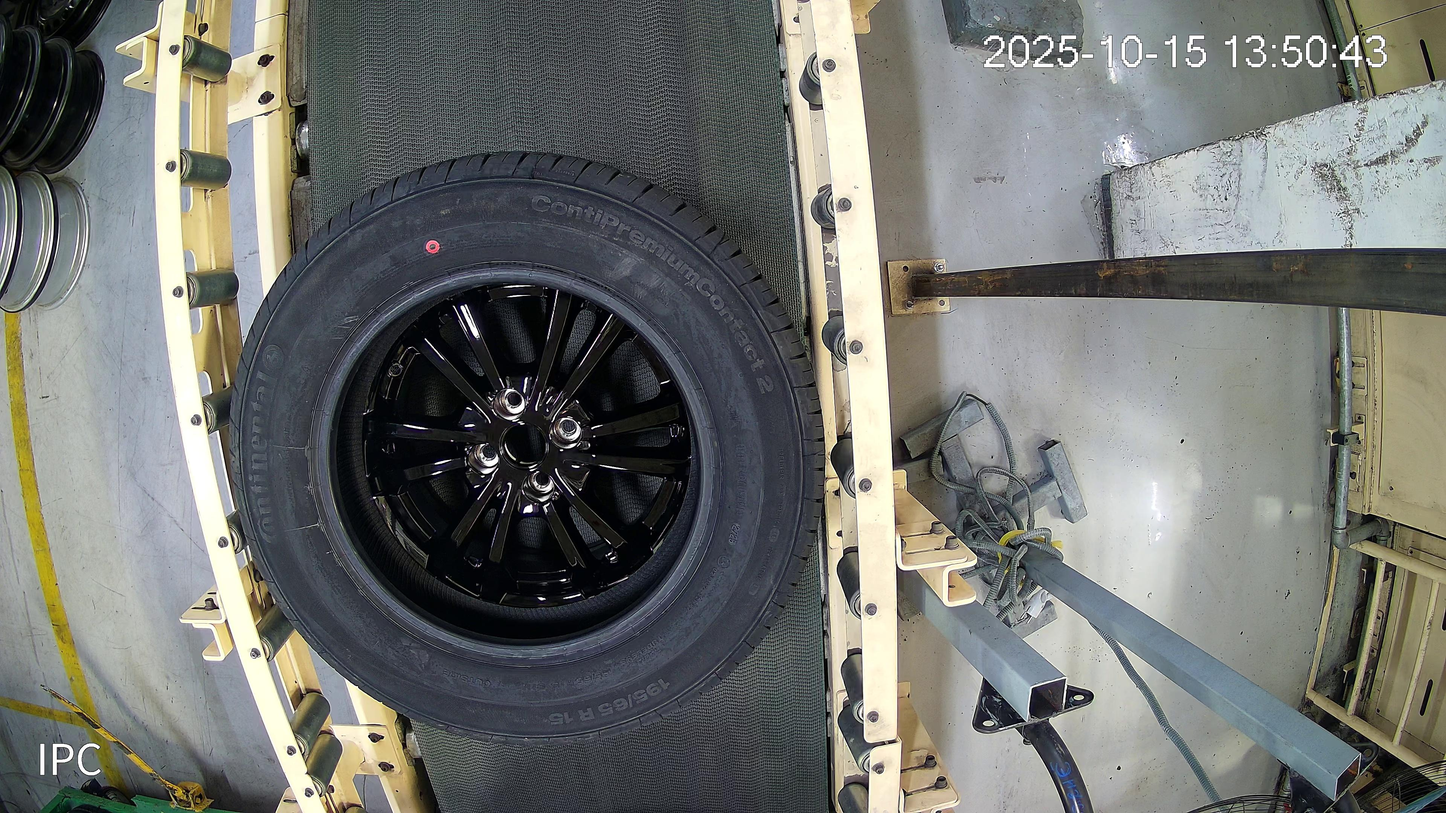black_wheel: (353, 274, 697, 613)
